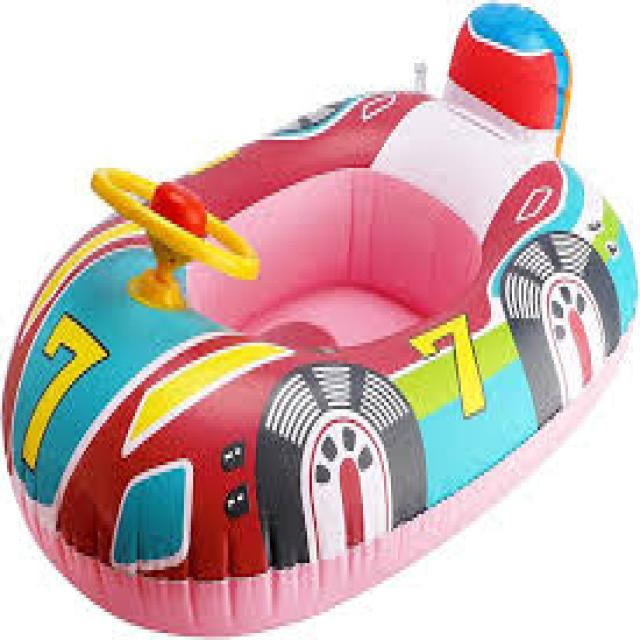lifesaver: (5, 0, 640, 640)
